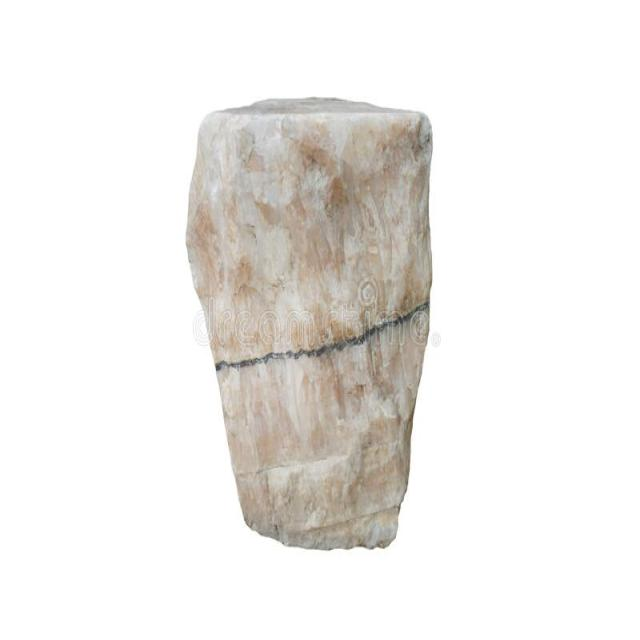Sedimentary: (182, 86, 440, 558)
